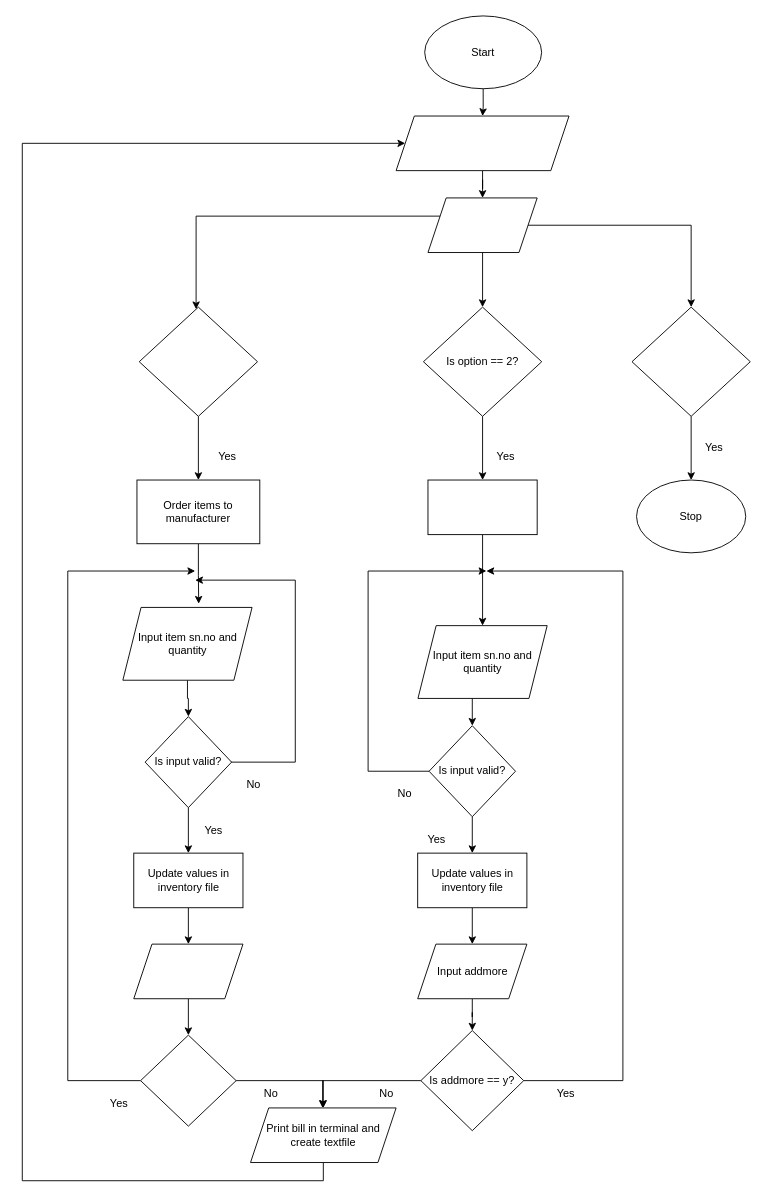
This 766x1204 diagram has some shape labels left out. The shapes that lost their labels are listed below. From the top down, each one's centre as x and y in pixels, then its label:
At (482,143): "Print welcome message and provide 3 options".
At (482,225): "Input option".
At (198,361): "Is option == 1?".
At (690,361): "Is option == 3?".
At (482,507): "Order items for customer".
At (188,971): "Input add more".
At (188,1080): "Is add more == y?".
